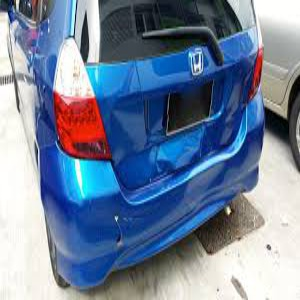door_scratch: (86, 122, 208, 189)
